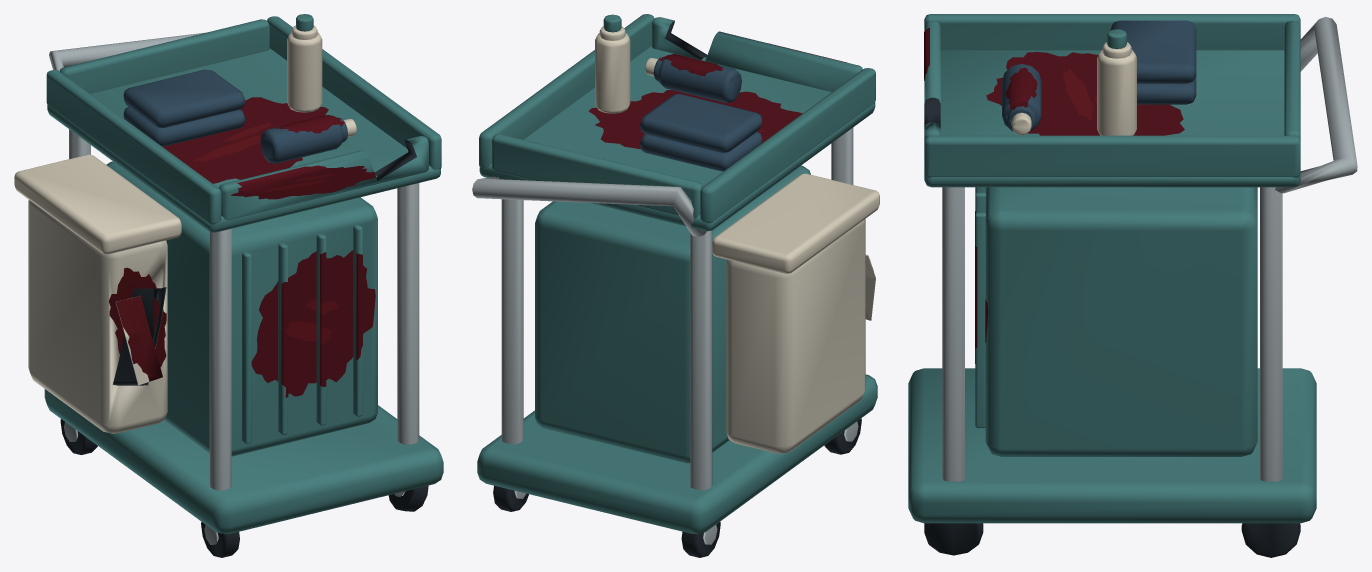
The model's file is janitor_cart.glb.
The picture shows the model from 3 angles, left to right: view 1: azimuth 30°, elevation 25°; view 2: azimuth 150°, elevation 25°; view 3: azimuth 270°, elevation 25°; orthographic projection. The views are drawn at different scales.
Visible parts, largest first — view 1: Outbreak_Utility_Janitor_Cart_Static; view 2: Outbreak_Utility_Janitor_Cart_Static; view 3: Outbreak_Utility_Janitor_Cart_Static.
Part boxes in pixels (x1,y1,x2,y2): Outbreak_Utility_Janitor_Cart_Static: (14,14,443,557); Outbreak_Utility_Janitor_Cart_Static: (472,14,879,557); Outbreak_Utility_Janitor_Cart_Static: (908,14,1357,557).
Bounding box in the file's own units: 0.83 × 1.23 × 0.9903.
